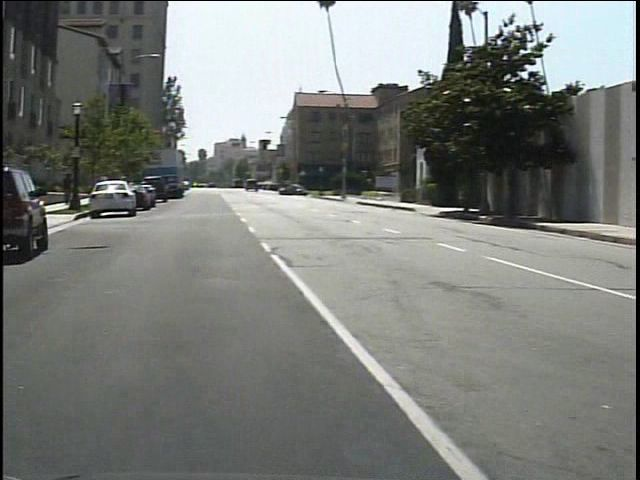person: (54, 170, 68, 207)
